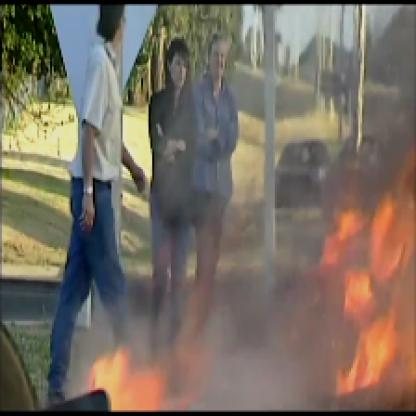Fire: (78, 182, 414, 414)
